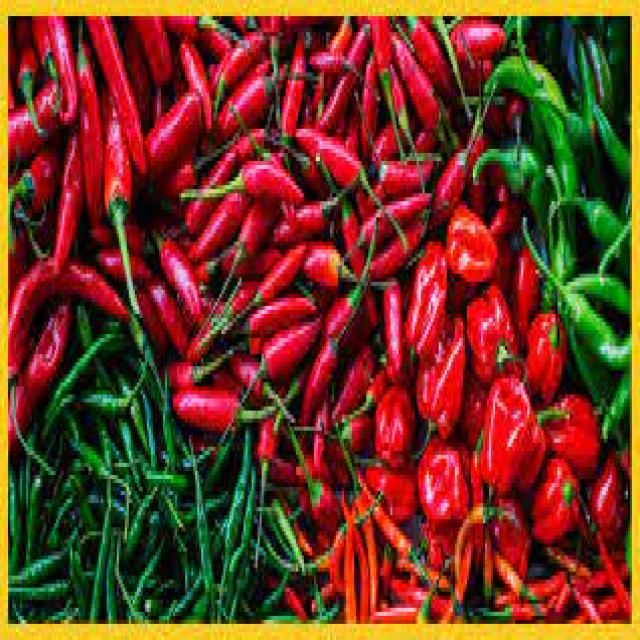Chili Pepper: (413, 54, 630, 417), (0, 382, 148, 612), (259, 118, 349, 436), (162, 392, 285, 622), (343, 416, 435, 640), (306, 107, 423, 246), (101, 57, 149, 315), (203, 417, 266, 596), (43, 400, 154, 493), (155, 200, 212, 357)
